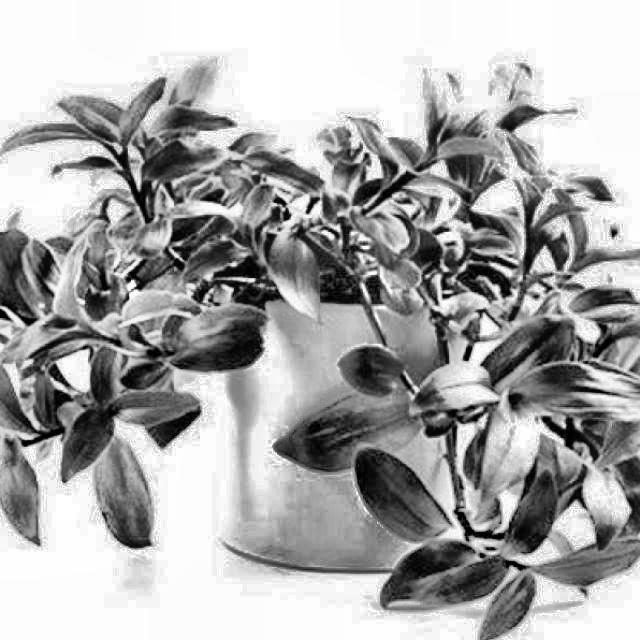plants: (19, 26, 562, 329)
